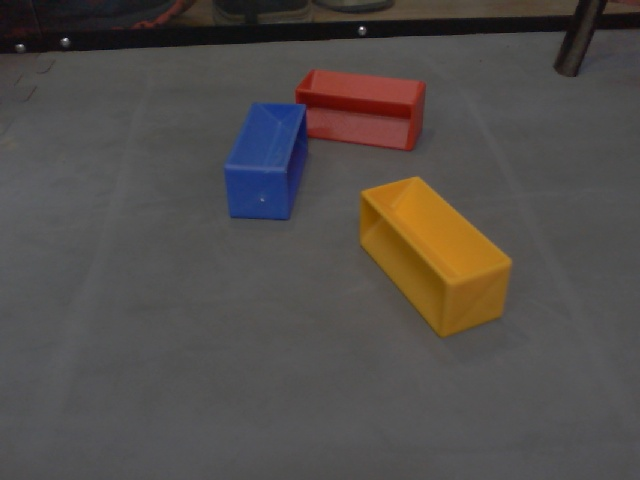BlueSample: (220, 98, 310, 223)
RedSample: (294, 68, 427, 154)
YellowSample: (357, 173, 515, 342)
